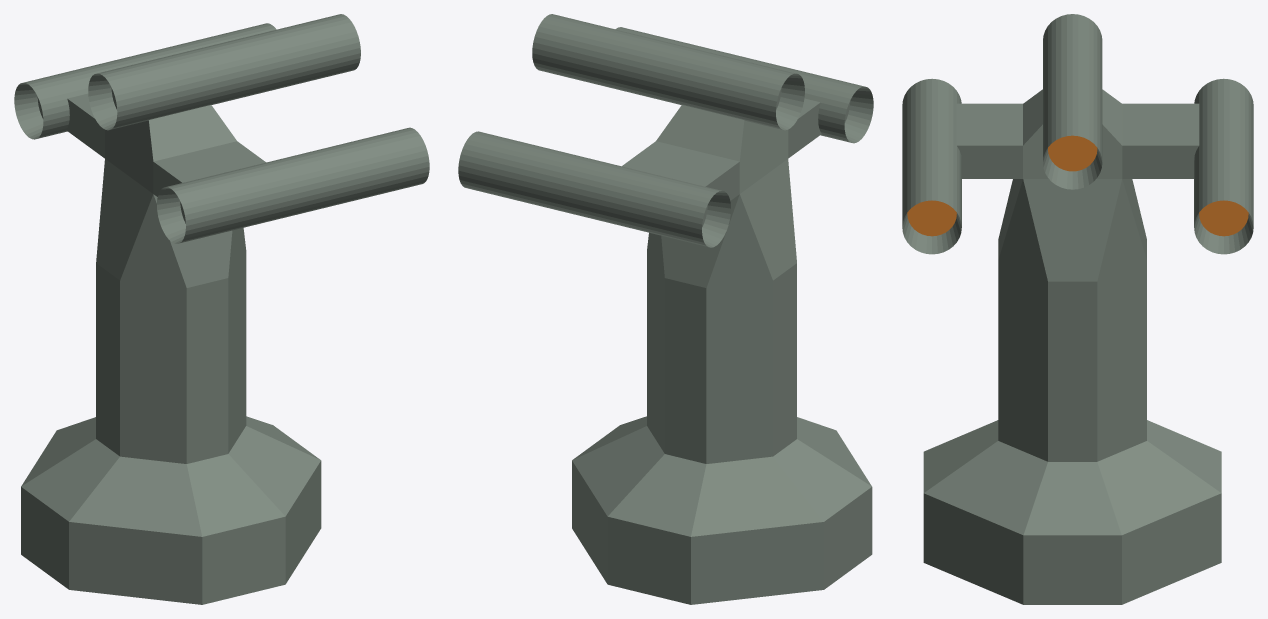
The model's file is Turret1.fbx.
3 views of the same model, side by side, from view 1: azimuth 30°, elevation 25°; view 2: azimuth 150°, elevation 25°; view 3: azimuth 270°, elevation 25° (orthographic). The views are drawn at different scales.
Visible parts, largest first — view 1: Cube, Cube.001; view 2: Cube, Cube.001; view 3: Cube, Cube.001.
Boxes of the visible parts, x1,y1,x2,y2 form: Cube: (21, 159, 321, 604); Cube.001: (14, 14, 429, 243); Cube: (572, 159, 872, 604); Cube.001: (458, 14, 873, 247); Cube: (923, 179, 1221, 604); Cube.001: (902, 14, 1253, 254).
Bounding box in the file's own units: 239 × 366 × 236.
